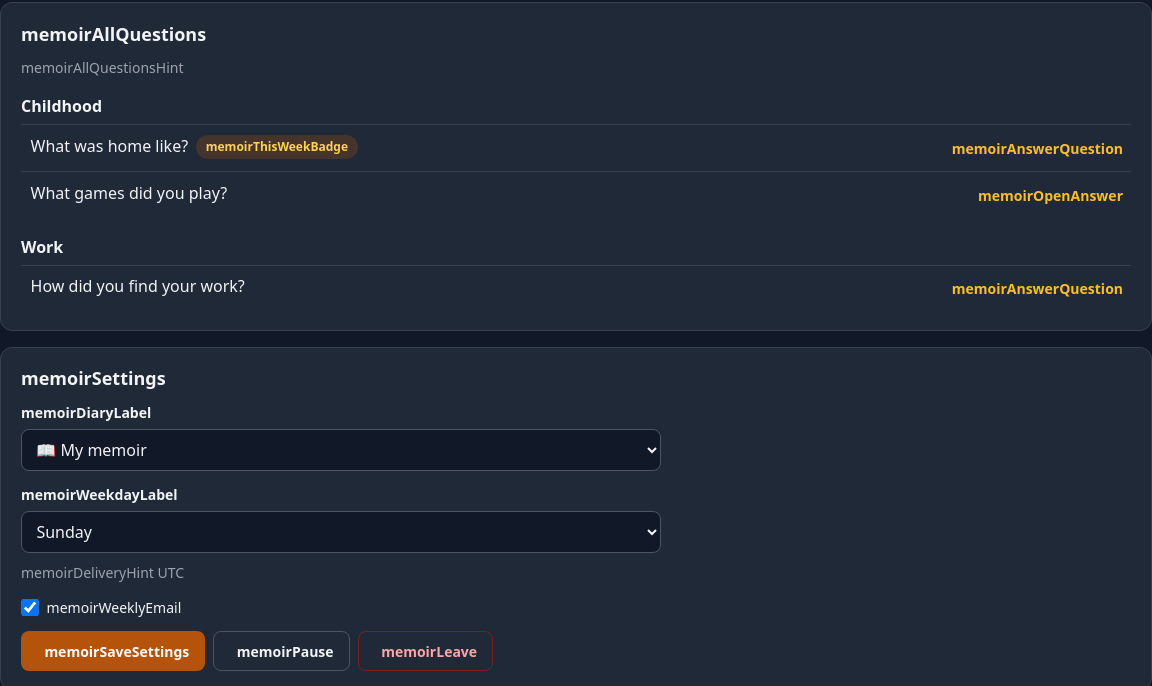
MemoirPage › saves settings, pauses and resumes, and stops the memoir after confirmation
The width and height of the screenshot is (1152, 686).
(page scrolled)
Select "Friday" in the dropdown labelled "memoirWeekdayLabel": (341, 532) [21,511,661,553]
Select "💭 Thoughts" in the dropdown labelled "memoirDiaryLabel": (341, 450) [21,428,661,470]
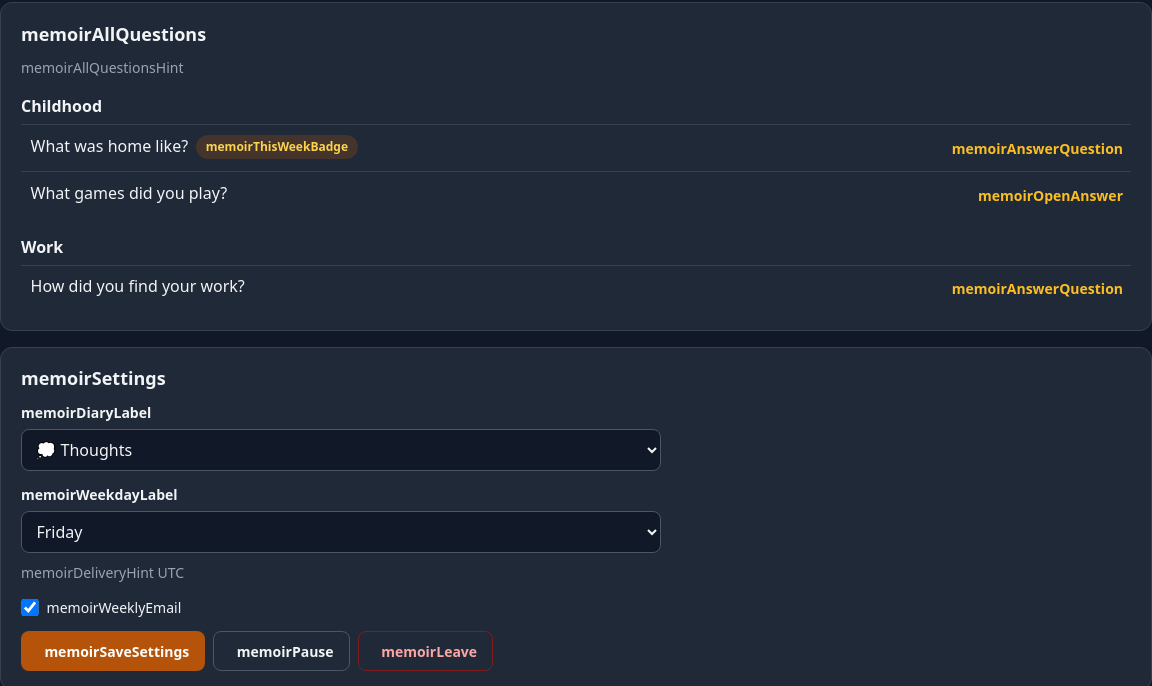
Click the button "memoirSaveSettings": (113, 652) [21,632,206,672]
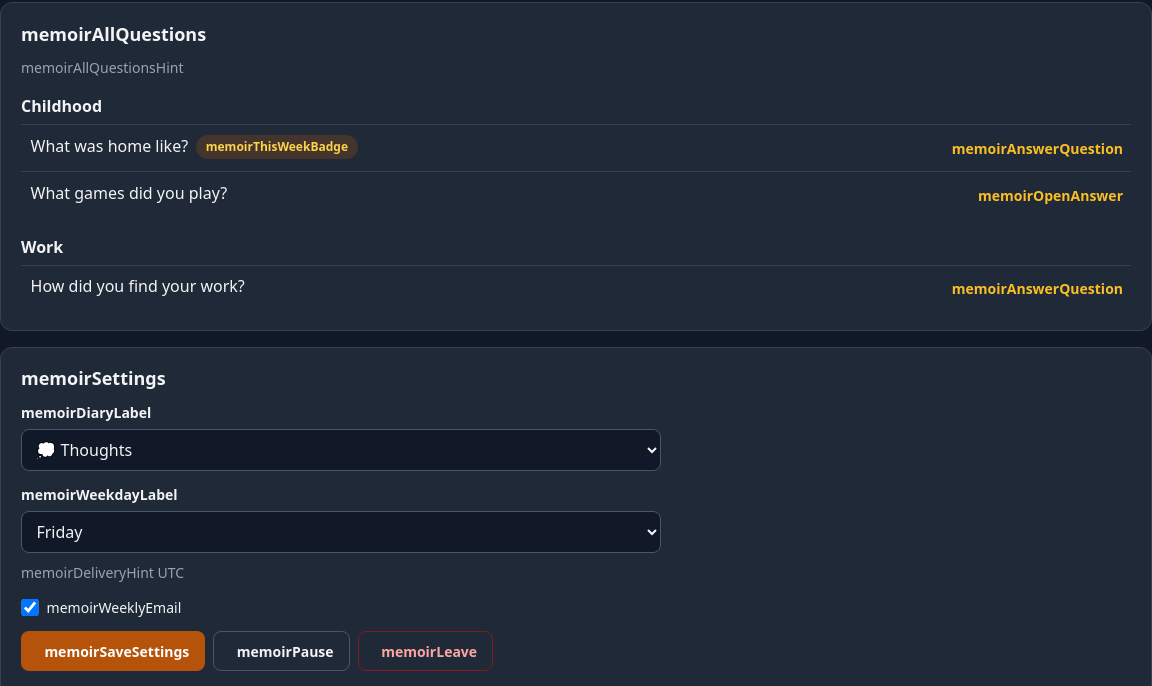
Click the button "memoirPause": (282, 652) [214,632,350,672]
(page scrolled)
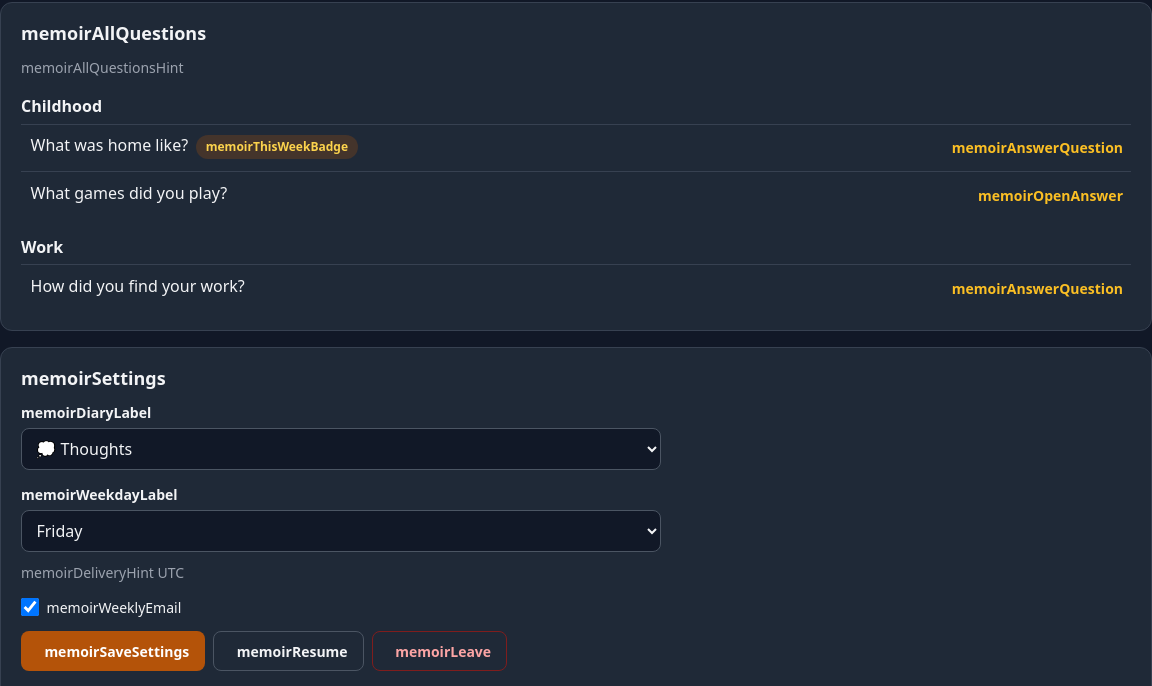
Click the button "memoirResume": (289, 651) [214,631,364,671]
(page scrolled)
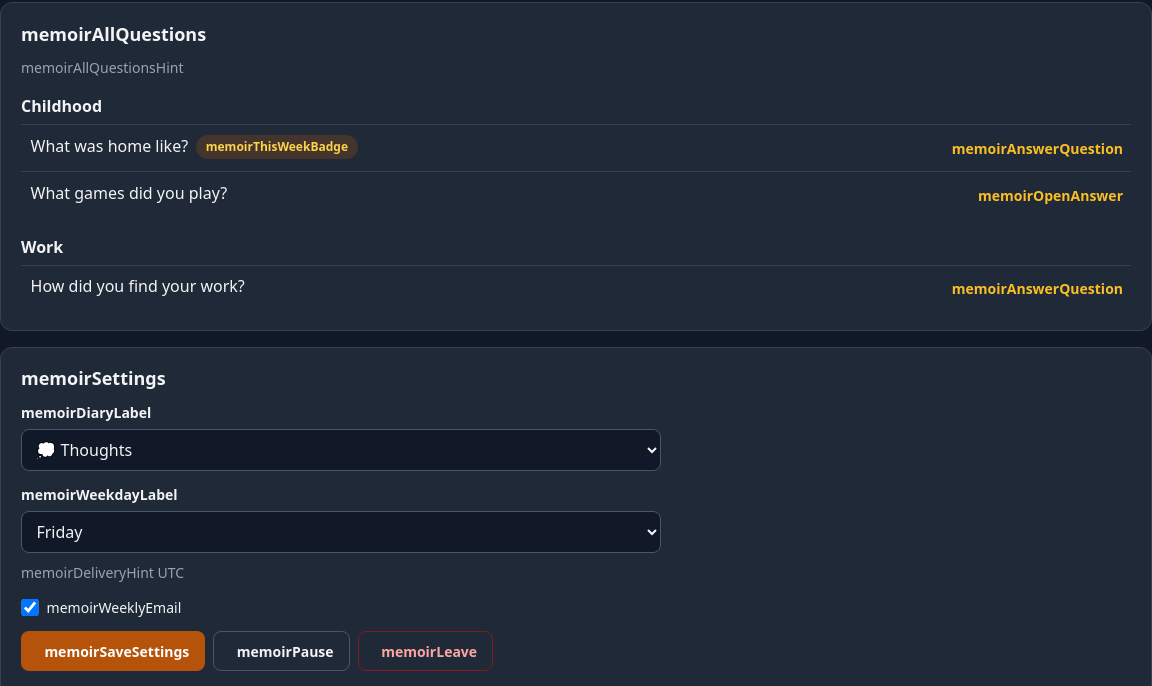
Click the button "memoirLeave": (426, 652) [358,632,493,672]
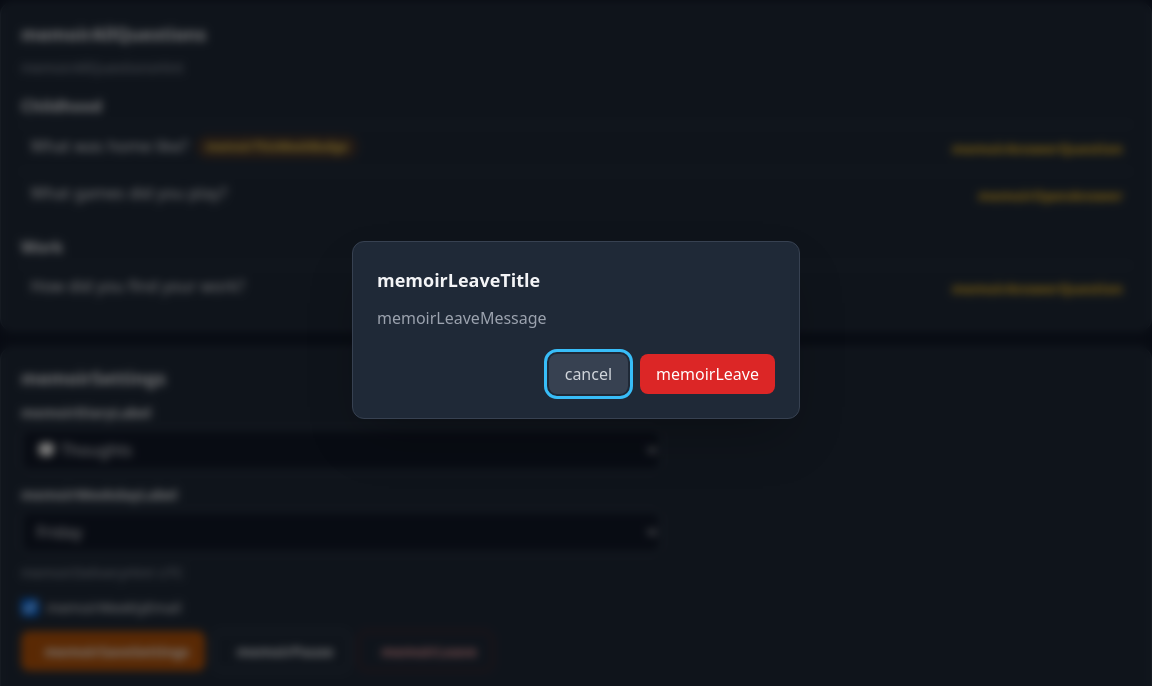
Expected: the text "memoirLeaveMessage" is shown, [377,307,547,329]
Click the button "memoirLeave": (708, 374) [640,354,775,394]
(page scrolled)
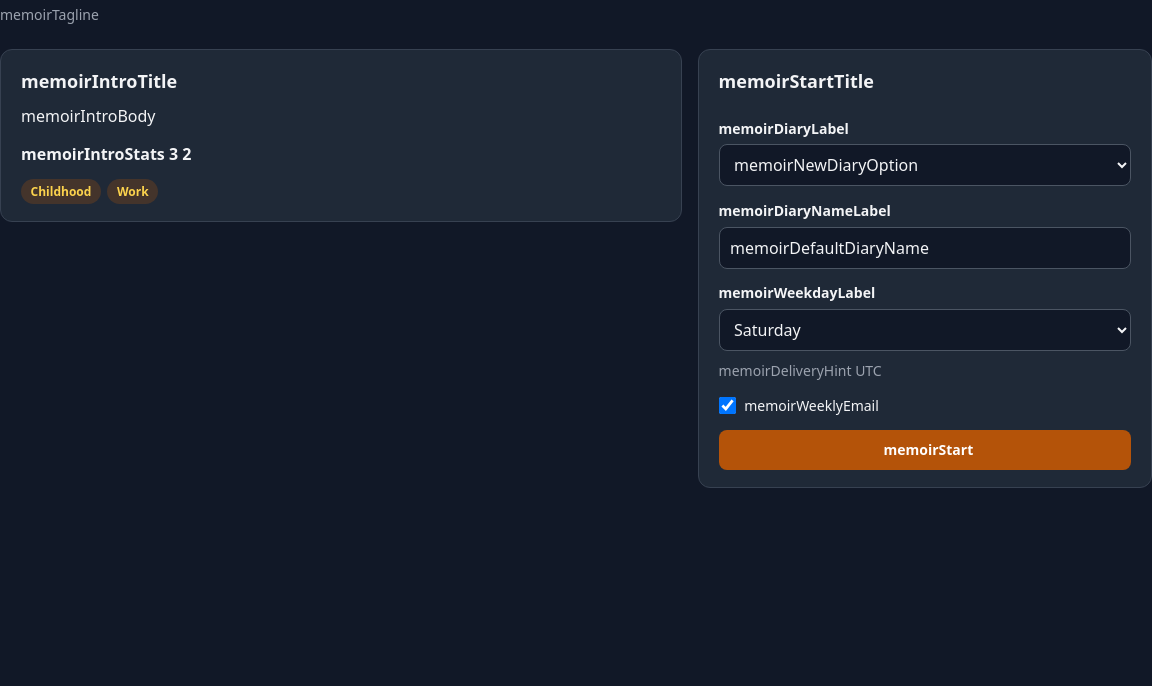
Expected: the heading "memoirIntroTitle" is shown, [21,69,177,93]
